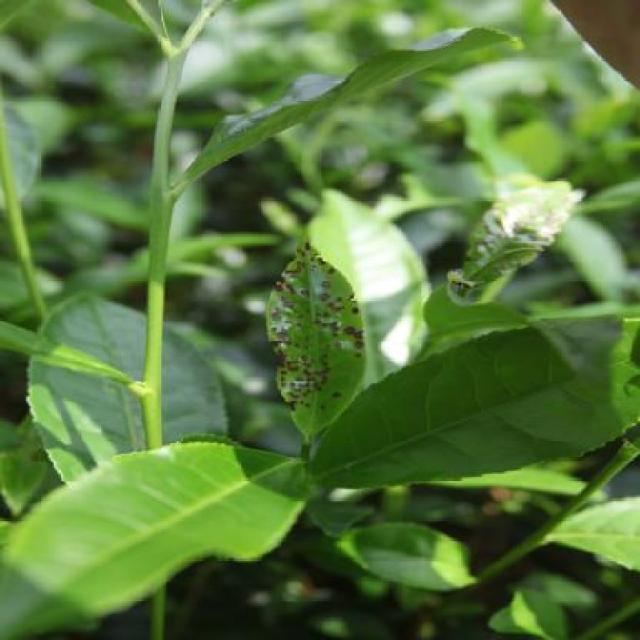Tea Mosquito bug infested leaf: (263, 221, 380, 454)
